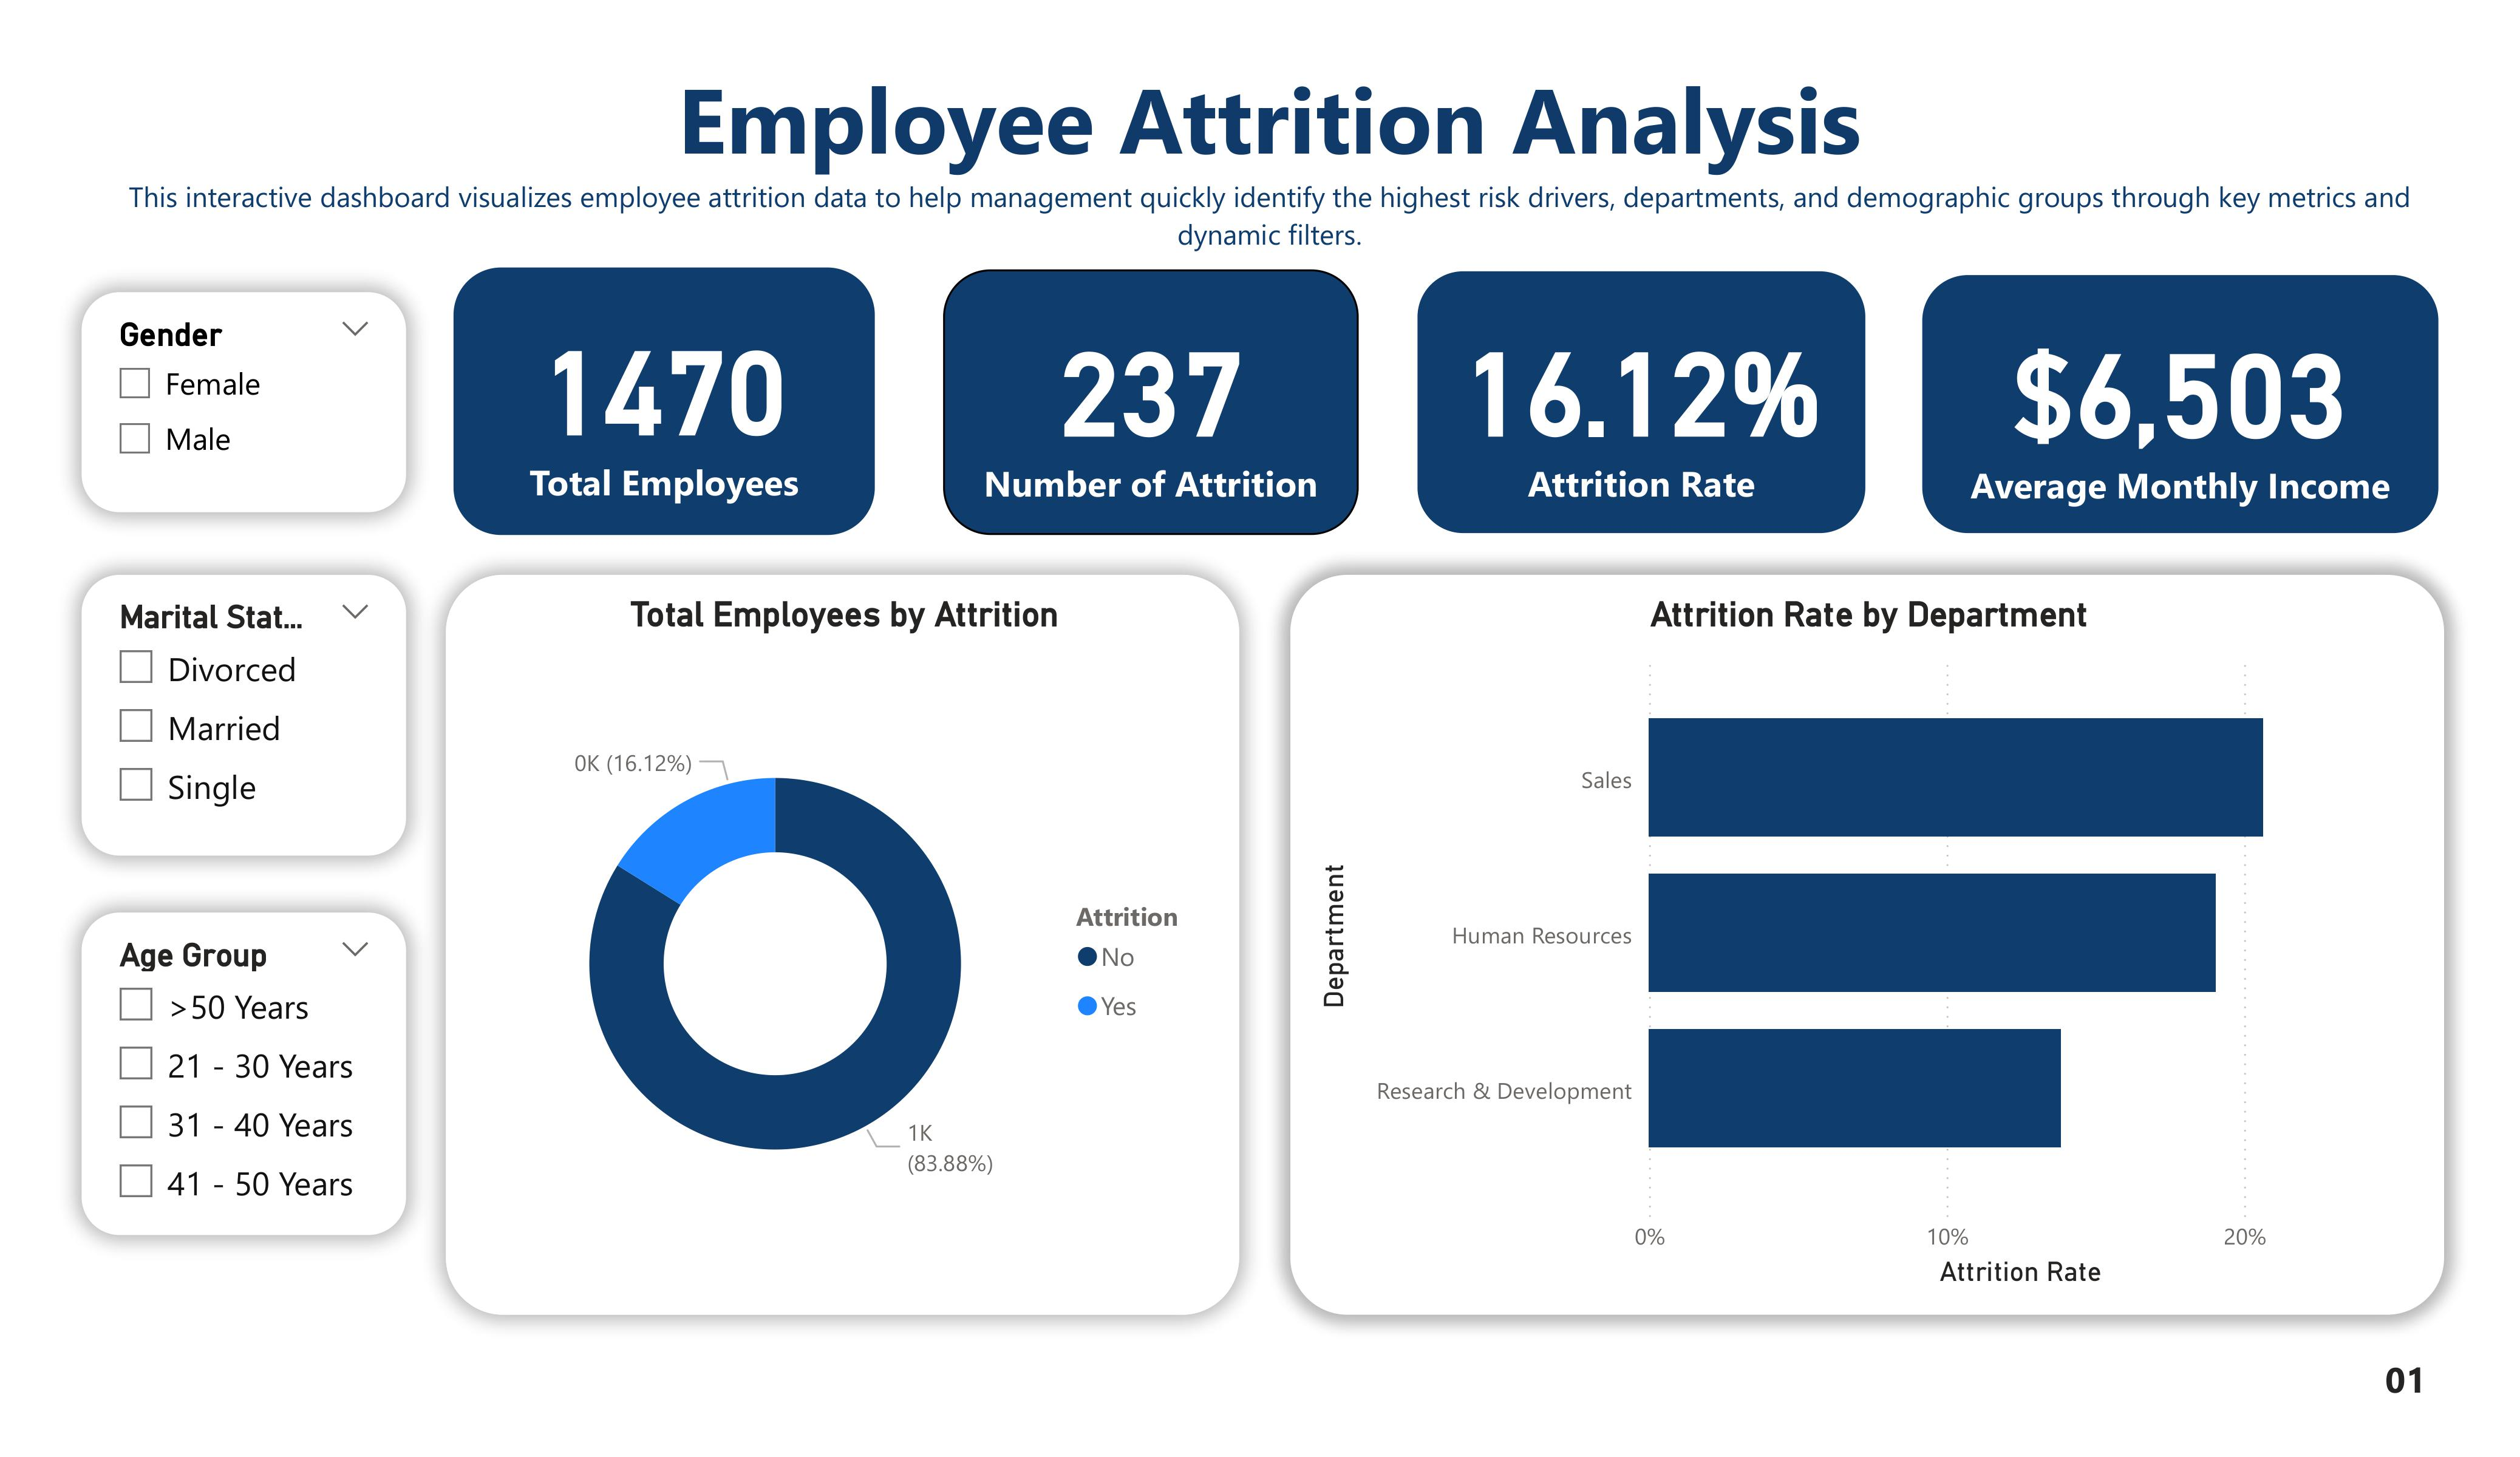

Layout of this report page (visuals, bound fields, positions):
{"tool":"powerbi","page":{"name":"Ringkasan Atrisi","canvas":[1280,720],"ordinal":0},"visuals":[{"type":"textbox","box":[10,0,1270,116.9],"z":0},{"type":"card","fields":{"Values":["_Key Measures.Total Employees"]},"box":[215,116.7,221.7,141.7],"z":1000},{"type":"card","fields":{"Values":["_Key Measures.Number of Attrition"]},"box":[473.3,118.3,218.3,140],"z":2000},{"type":"card","fields":{"Values":["_Key Measures.Attrition Rate"]},"box":[721.7,118.3,238.3,140],"z":3000},{"type":"card","fields":{"Values":["_Key Measures.Average Monthly Income"]},"box":[988.3,120,273.3,138.3],"z":4000},{"type":"donutChart","fields":{"Category":["WA_Fn-UseC_-HR-Employee-Attrition.Attrition"],"Y":["_Key Measures.Total Employees"]},"box":[211.4,278.6,417.1,390],"z":5000},{"type":"clusteredBarChart","fields":{"Category":["WA_Fn-UseC_-HR-Employee-Attrition.Department"],"Y":["_Key Measures.Attrition Rate"]},"box":[655.7,278.6,608.6,390],"z":6000},{"type":"slicer","fields":{"Values":["WA_Fn-UseC_-HR-Employee-Attrition.Gender"]},"box":[18.6,130,171.4,115.7],"z":7000},{"type":"slicer","fields":{"Values":["WA_Fn-UseC_-HR-Employee-Attrition.MaritalStatus"]},"box":[18.6,278.6,171.4,148.6],"z":8000},{"type":"slicer","fields":{"Values":["WA_Fn-UseC_-HR-Employee-Attrition.Age Group"]},"box":[18.6,457.1,171.4,170],"z":9000},{"type":"textbox","box":[1228.3,685,51.7,35],"z":9001}]}

Visuals, with their boxes in screenshot pixels (x1, y1, x2, y2):
textbox: bbox=(64, 46, 2474, 267)
card - _Key Measures.Total Employees: bbox=(454, 267, 874, 535)
card - _Key Measures.Number of Attrition: bbox=(944, 270, 1358, 535)
card - _Key Measures.Attrition Rate: bbox=(1415, 270, 1867, 535)
card - _Key Measures.Average Monthly Income: bbox=(1921, 273, 2439, 535)
donutChart - WA_Fn-UseC_-HR-Employee-Attrition.Attrition x _Key Measures.Total Employees: bbox=(447, 574, 1238, 1314)
clusteredBarChart - WA_Fn-UseC_-HR-Employee-Attrition.Department x _Key Measures.Attrition Rate: bbox=(1290, 574, 2445, 1314)
slicer - WA_Fn-UseC_-HR-Employee-Attrition.Gender: bbox=(81, 292, 406, 512)
slicer - WA_Fn-UseC_-HR-Employee-Attrition.MaritalStatus: bbox=(81, 574, 406, 856)
slicer - WA_Fn-UseC_-HR-Employee-Attrition.Age Group: bbox=(81, 912, 406, 1235)
textbox: bbox=(2376, 1345, 2474, 1411)
